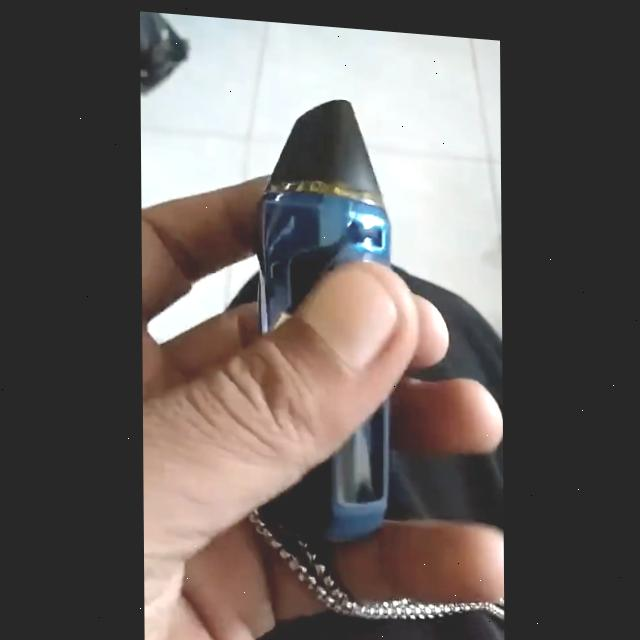vape: (250, 86, 391, 543)
